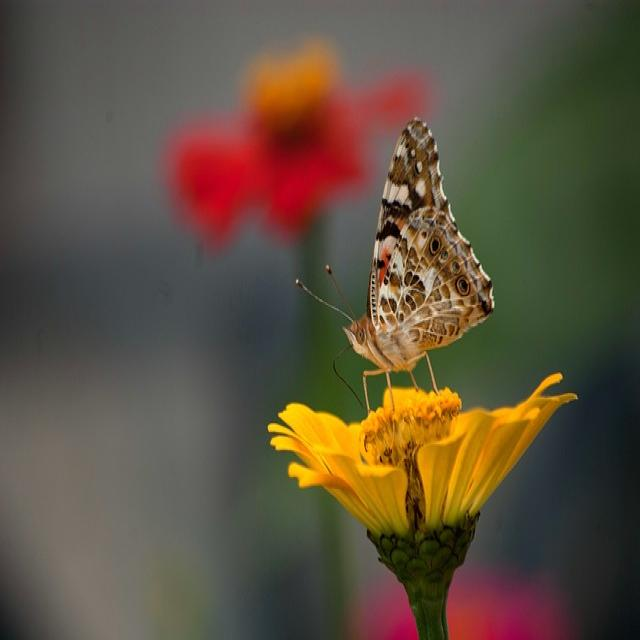butterfly: (343, 118, 496, 389)
